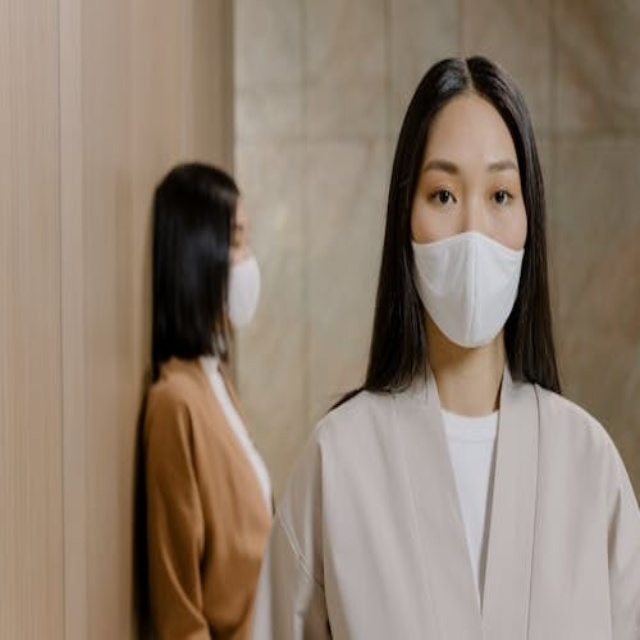Mascara: (409, 227, 524, 347), (227, 252, 262, 328)
Sin_gafas: (420, 154, 520, 223), (232, 217, 253, 246)
